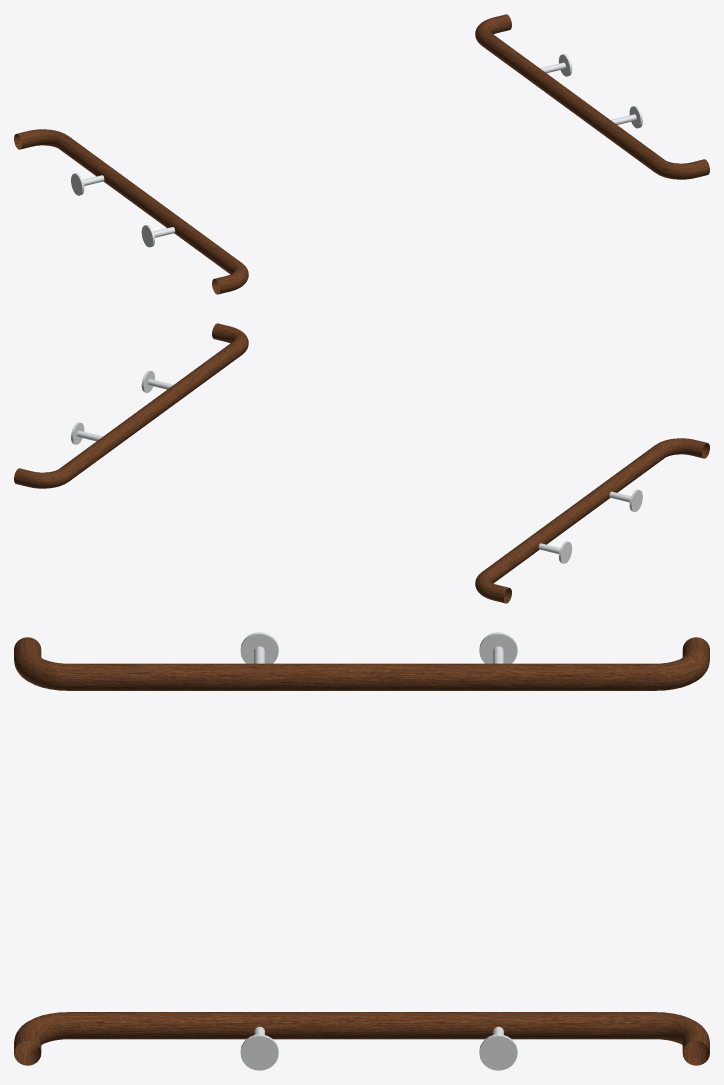
The model's file is handrail_FS009.glb.
3 views of the same model, one above another, from view 1: azimuth 30°, elevation 25°; view 2: azimuth 150°, elevation 25°; view 3: azimuth 270°, elevation 25° (orthographic). The views are drawn at different scales.
Visible parts, largest first — view 1: Handrail_R, Handrail_L; view 2: Handrail_R, Handrail_L; view 3: Handrail_L, Handrail_R, Handrail_R_Rosette_2, Handrail_R_Rosette_1, Handrail_L_Rosette_1, Handrail_L_Rosette_2.
Boxes of the visible parts, box(x1,y1,x2,y2) form: Handrail_R: box(475, 14, 709, 179); Handrail_L: box(14, 129, 248, 294); Handrail_R: box(14, 323, 248, 488); Handrail_L: box(475, 438, 709, 603); Handrail_L: box(14, 637, 709, 690); Handrail_R: box(14, 1012, 709, 1065); Handrail_R_Rosette_2: box(479, 1034, 517, 1070); Handrail_R_Rosette_1: box(240, 1034, 278, 1070); Handrail_L_Rosette_1: box(240, 632, 278, 663); Handrail_L_Rosette_2: box(479, 632, 517, 663).
Bounding box in the file's own units: 1.4 × 0.056 × 1.02.
2 materials, 1 textured.
